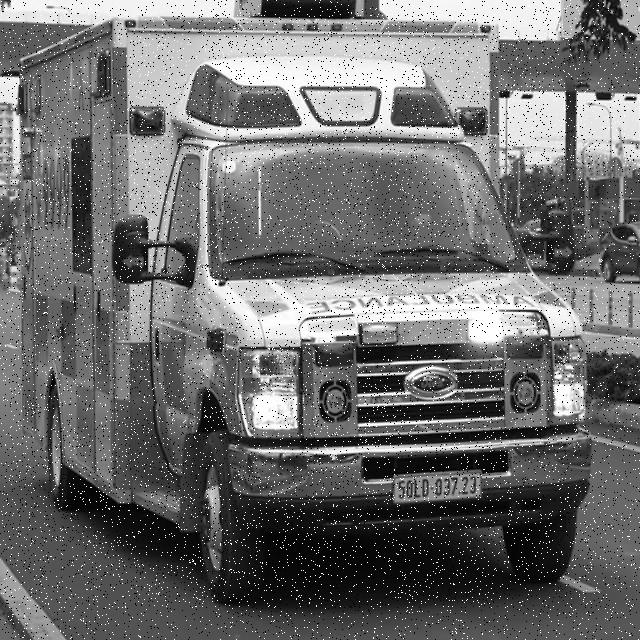Ambulance: (9, 15, 593, 607)
